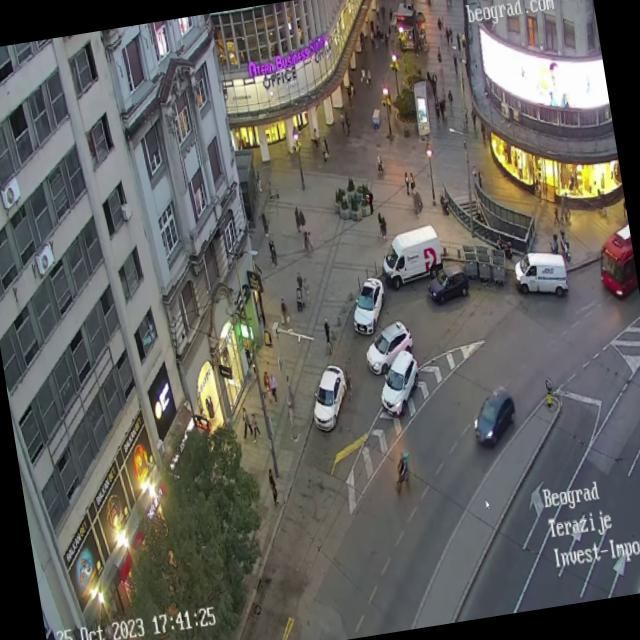bus: (592, 224, 640, 302)
car: (374, 347, 426, 419), (306, 362, 355, 434), (360, 317, 418, 377), (468, 385, 520, 450), (382, 228, 444, 280), (509, 248, 568, 296), (346, 276, 391, 338), (424, 264, 472, 306)
